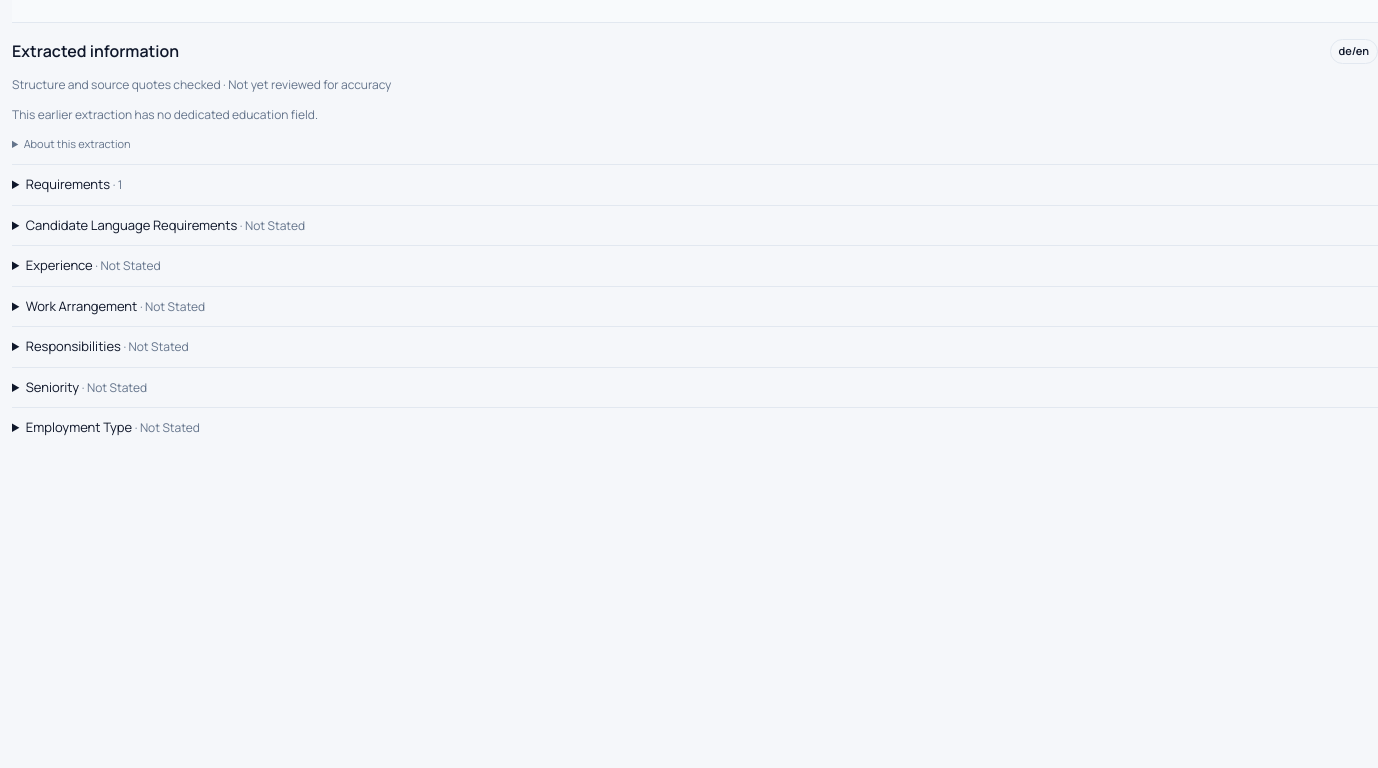
AI extraction › distinguishes document language from requirements and renders evidence as text
expect the text "de/en" is shown: met, box x1=1330 y1=39 x2=1377 y2=64
expect the heading "Candidate language requirements · not stated" is shown: met, box x1=26 y1=216 x2=305 y2=234
Click the heading "requirements · 1" at (74, 184), box x1=26 y1=175 x2=123 y2=193
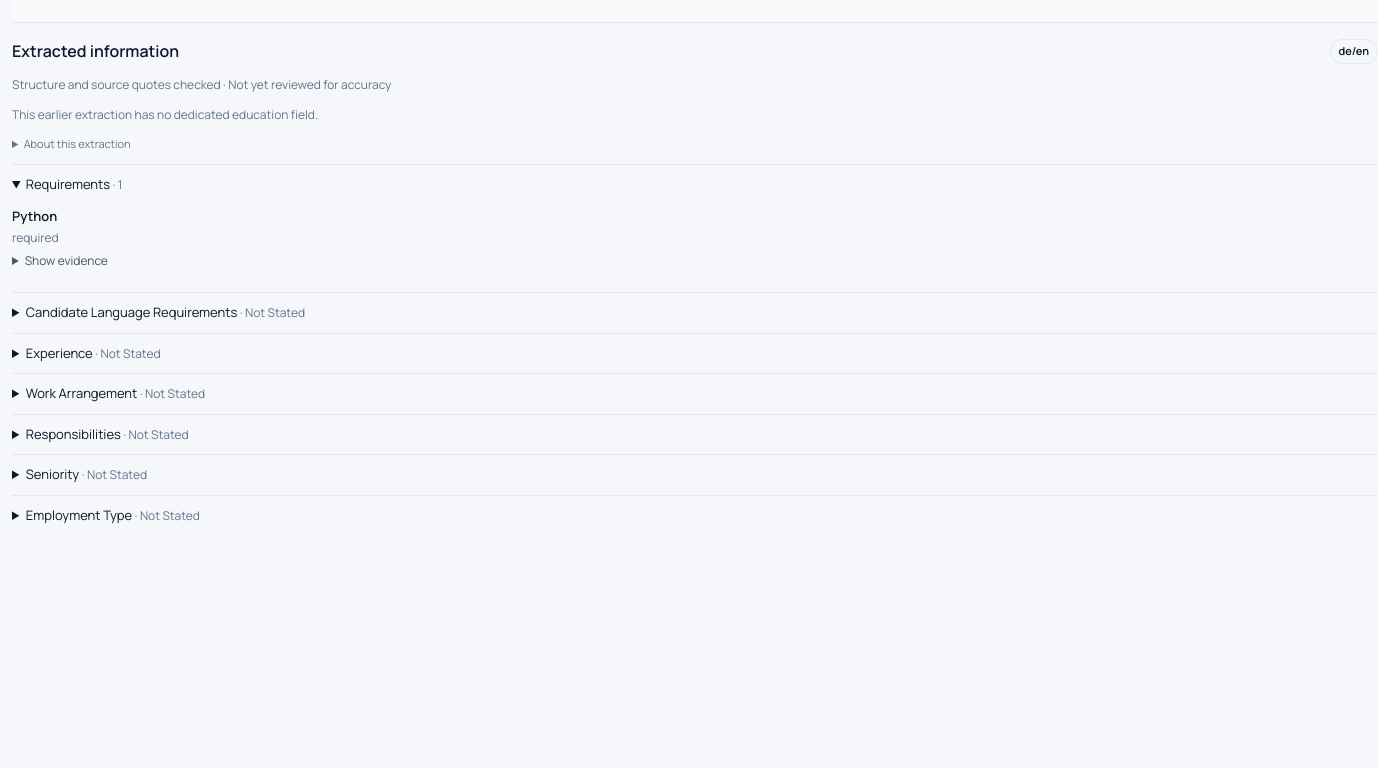
Click the heading "Show evidence" at (66, 260), box x1=25 y1=252 x2=108 y2=269
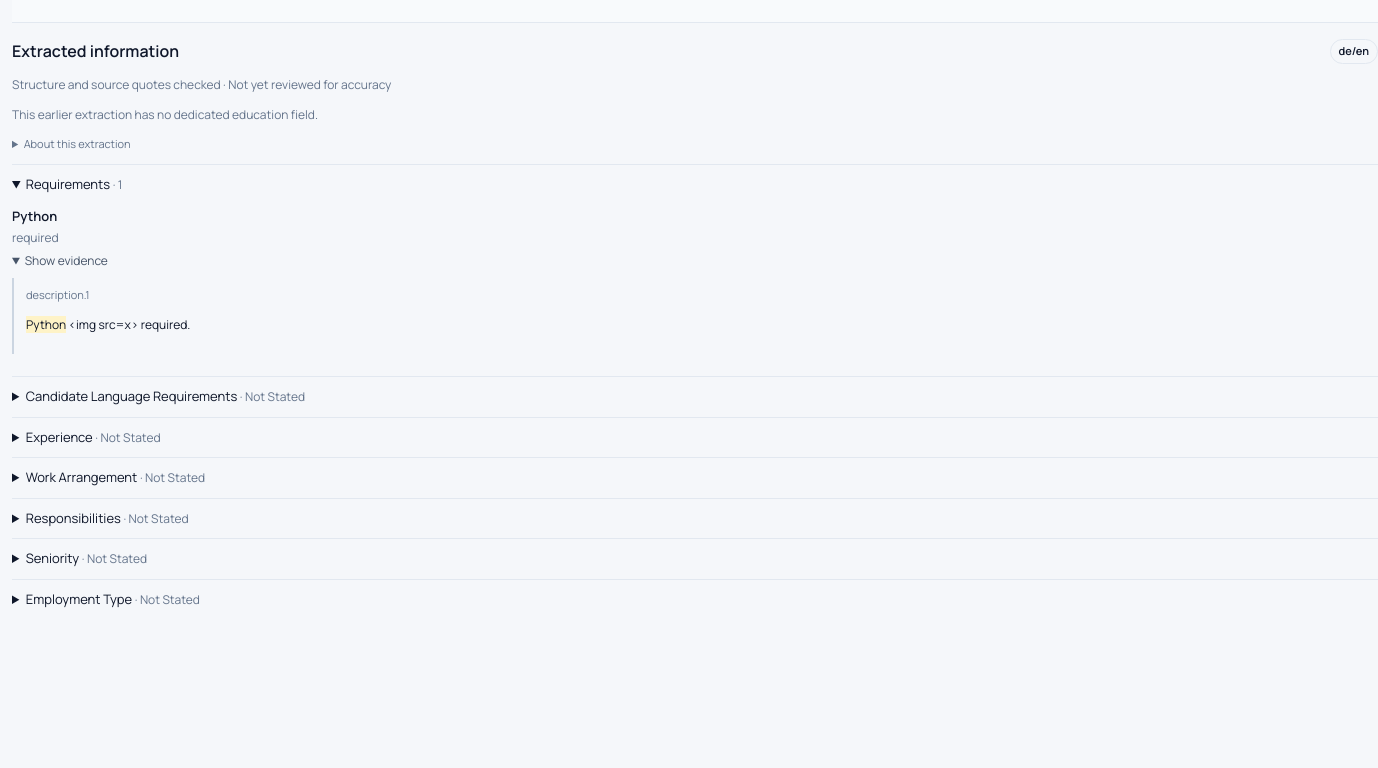
expect the text "Not yet reviewed for accuracy" is shown: met, box x1=12 y1=76 x2=391 y2=92
expect the text "Python" next to "<img src=x> required." is shown: met, box x1=26 y1=316 x2=66 y2=333
expect the element showing "description.1 Python <img src=x> required." is shown: met, box x1=12 y1=278 x2=1377 y2=354
